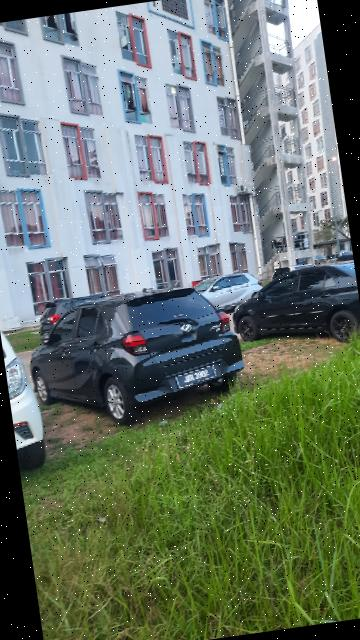License_Plate: (176, 364, 223, 390)
car: (21, 280, 255, 436)
